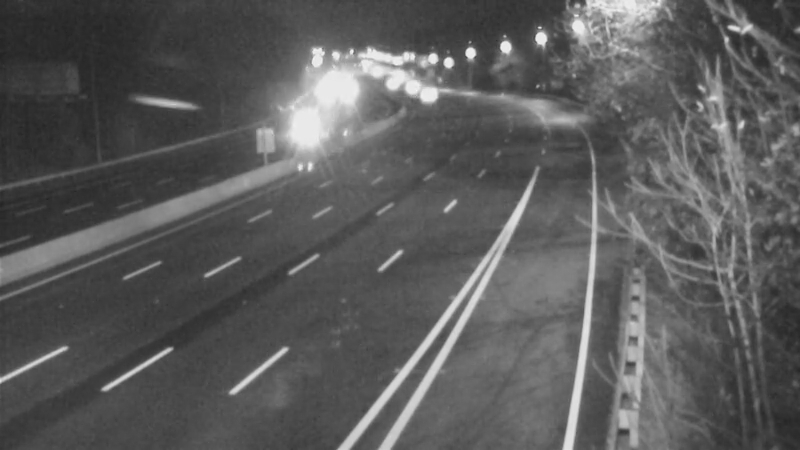vehicle: (367, 59, 417, 109), (391, 62, 441, 112), (400, 69, 450, 119), (282, 96, 332, 146)
